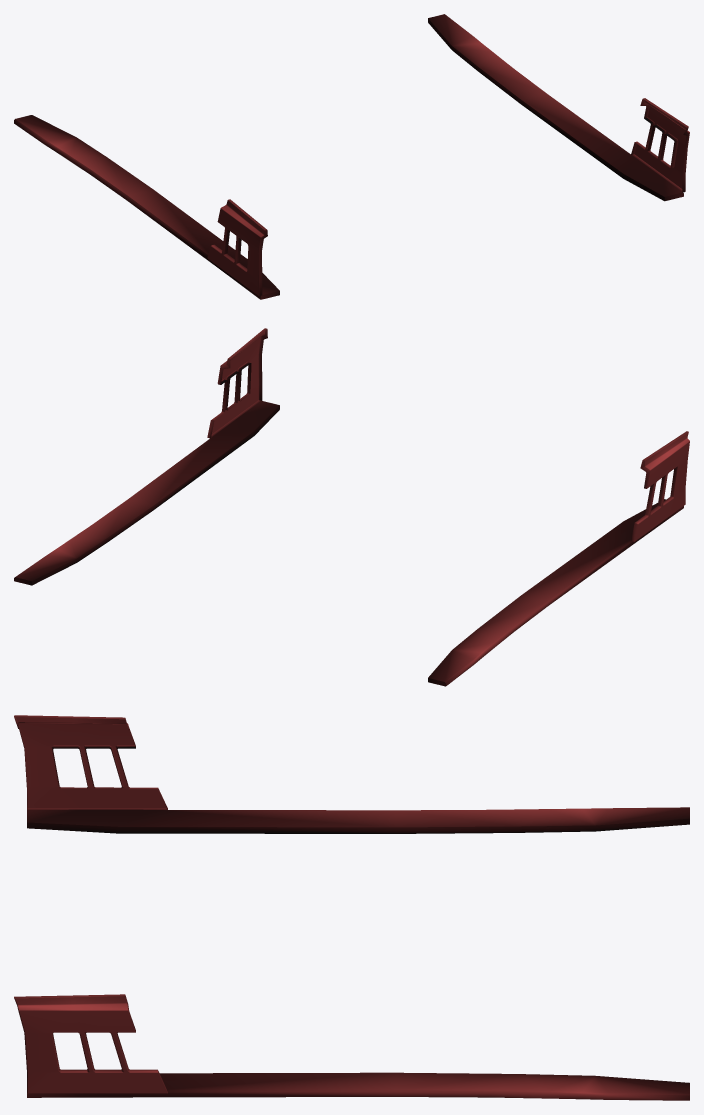
The model's file is Supra_SideSkirt_05_Trim.fbx.
The picture shows the model from 3 angles, top to bottom: view 1: azimuth 30°, elevation 25°; view 2: azimuth 150°, elevation 25°; view 3: azimuth 270°, elevation 25°; orthographic projection. The views are drawn at different scales.
Visible parts, largest first — view 1: Supra_SideSkirt_05_Trim; view 2: Supra_SideSkirt_05_Trim; view 3: Supra_SideSkirt_05_Trim.
Part boxes in pixels (left/top/right/bottom): Supra_SideSkirt_05_Trim: left=14, top=14, right=689, bottom=299; Supra_SideSkirt_05_Trim: left=14, top=328, right=689, bottom=686; Supra_SideSkirt_05_Trim: left=14, top=715, right=689, bottom=1100.
Size of the model in its own units: 183 by 29.65 by 182.
